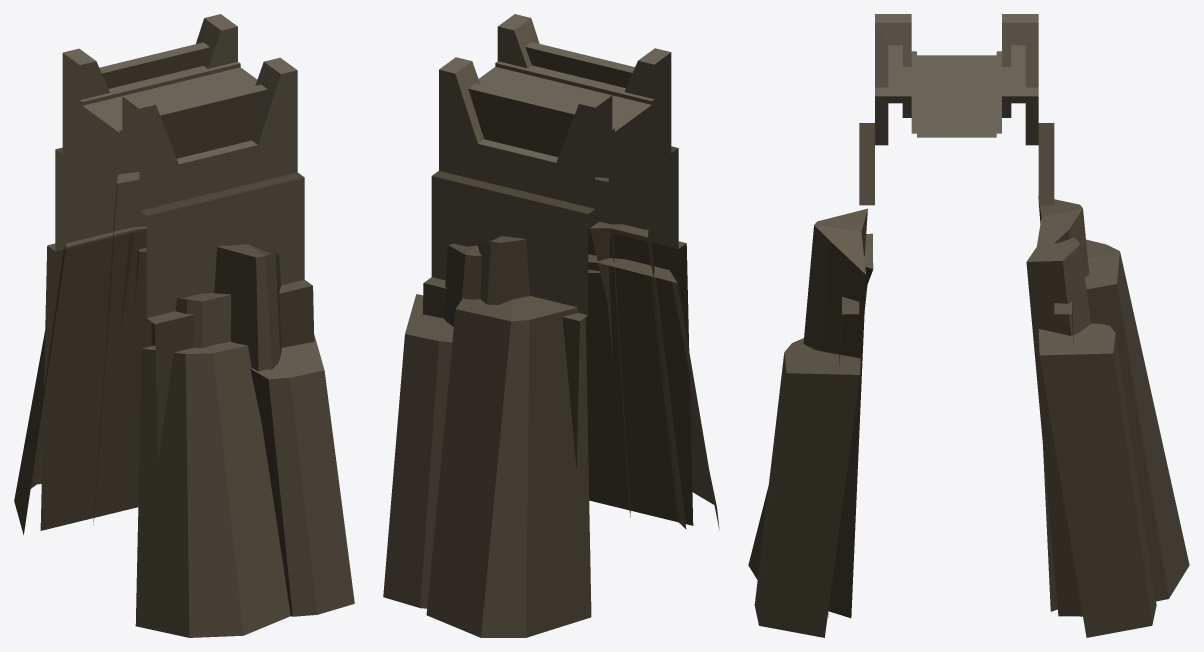
The model's file is SF_Bld_Undead_Castle_Wall_01.fbx.
3 renders of one model, left to right at view 1: azimuth 30°, elevation 25°; view 2: azimuth 150°, elevation 25°; view 3: azimuth 270°, elevation 25°, orthographic. The views are drawn at different scales.
Parts seen in each view (by area): view 1: SF_Bld_Undead_Castle_Wall_01; view 2: SF_Bld_Undead_Castle_Wall_01; view 3: SF_Bld_Undead_Castle_Wall_01.
Boxes of the visible parts, x1,y1,x2,y2 form: SF_Bld_Undead_Castle_Wall_01: (14,14,354,637); SF_Bld_Undead_Castle_Wall_01: (383,14,719,637); SF_Bld_Undead_Castle_Wall_01: (748,14,1189,637).
Bounding box in the file's own units: 6.66 × 14.95 × 11.32.
